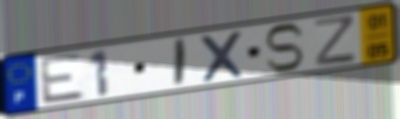1: (88, 48, 112, 97)
E: (37, 51, 88, 106)
I: (172, 36, 189, 89)
S: (262, 22, 307, 74)
X: (197, 28, 248, 85)
Z: (313, 12, 358, 67)
